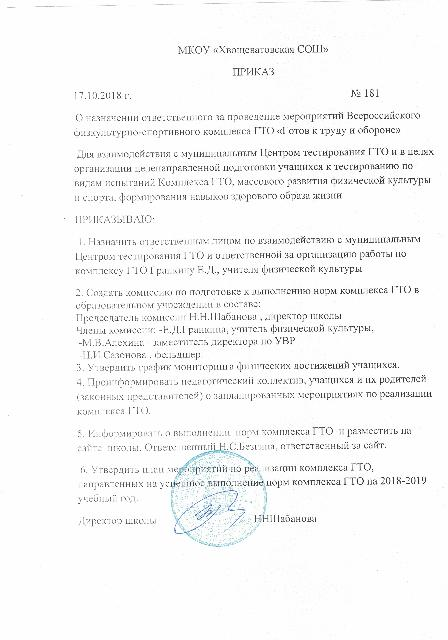stamp: (172, 452, 266, 546)
